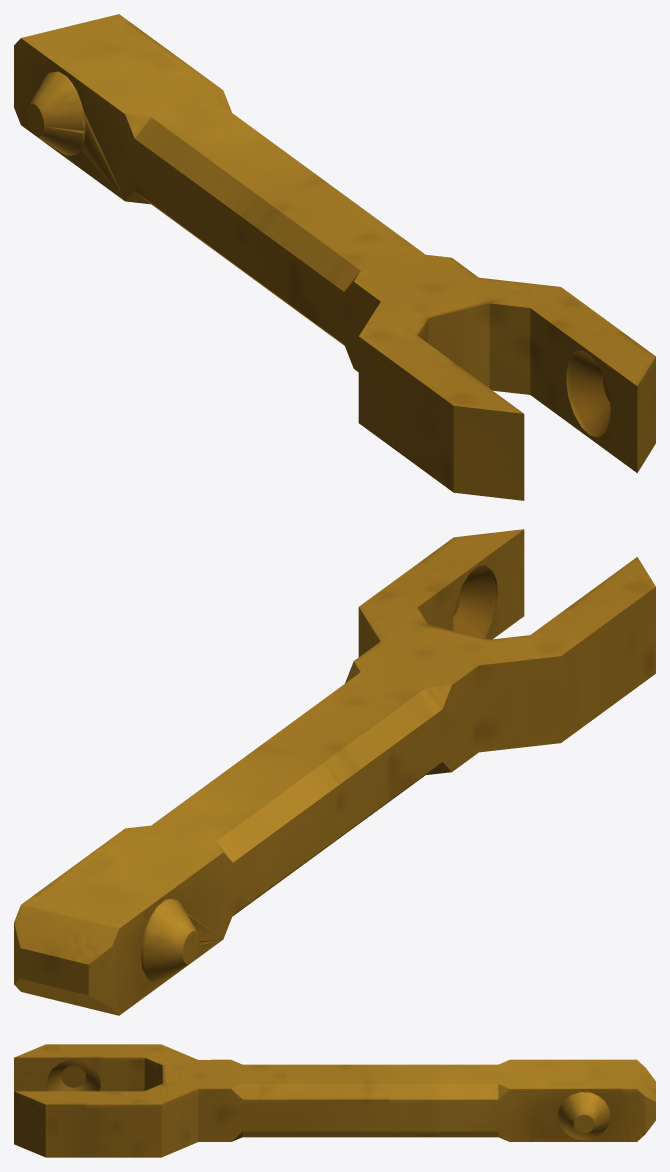
File: inserter-arm-bulk-upper.glb
3 renders of one model, top to bottom at view 1: azimuth 30°, elevation 25°; view 2: azimuth 150°, elevation 25°; view 3: azimuth 270°, elevation 25°, orthographic. The views are drawn at different scales.
Visible parts, largest first — view 1: body; view 2: body; view 3: body.
Boxes of the visible parts, <box> form: body: <box>14,14,655,500</box>; body: <box>14,529,655,1015</box>; body: <box>14,1044,655,1157</box>.
Size of the model in its own units: 0.2197 by 0.0905 by 0.9905.
Materials: 1 (1 with a texture image).
